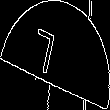L_S: (40, 26, 70, 84)
